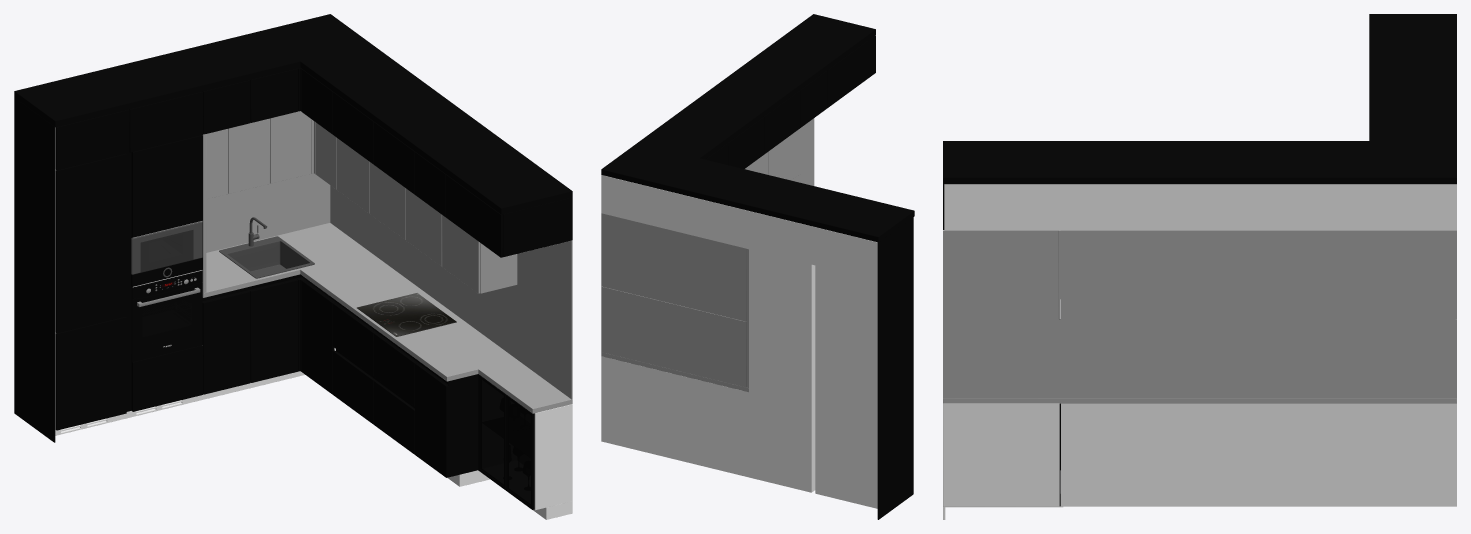
The picture shows the model from 3 angles, left to right: view 1: azimuth 30°, elevation 25°; view 2: azimuth 150°, elevation 25°; view 3: azimuth 270°, elevation 25°; orthographic projection. The views are drawn at different scales.
Parts seen in each view (by area): view 1: Fasad_Fasad_0, falshpanel1_Dub_galifaks_top_left_0, Fasad12_Fasad_0, Fasad13_Fasad_0, top_Dub_galifaks_top_left_0, Fasad15_Fasad_0, falshpanel_Dub_galifaks_top_left_0, Fasad14_Fasad_0, Fasad17_Fasad_0, glass_bar_glass_bar_0, Fasad18_Fasad_0, top_Dub_galifaks_top_0 (+40 smaller); view 2: Fasad_Fasad_0, Fasad12_Fasad_0, falshpanel_Dub_galifaks_top_left_0, korp13_Korpus_0 (×2), Korpus_40_1017_Korpus_0, korp10_Korpus_0, korp16_Dub_galifaks_top_left_0, korp11_Korpus_0, korp7_Korpus_0, Korpus_40_0_Korpus_0, korp14_Korpus_0, korp12_Korpus_0 (+13 smaller); view 3: falshpanel1_Dub_galifaks_top_left_0, Fasad_Fasad_0, bar_glass_Korpus_0, Korpus_40_1017_Korpus_0, Korpus_60_001_Korpus_0, Korpus_60_0_Korpus_0, Korpus_40_1018_Dub_galifaks_top_left_0, korp19_Dub_galifaks_top_left_0, korp18_Dub_galifaks_top_left_0, Korpus_45_0_Korpus_0, Korpus_45_001_Korpus_0, korp20_Dub_galifaks_top_left_0 (+8 smaller).
Boxes of the visible parts, x1,y1,x2,y2 form: Fasad_Fasad_0: (14, 14, 572, 214); falshpanel1_Dub_galifaks_top_left_0: (330, 185, 572, 399); Fasad12_Fasad_0: (14, 97, 55, 442); Fasad13_Fasad_0: (55, 153, 126, 333); top_Dub_galifaks_top_left_0: (300, 252, 572, 413); Fasad15_Fasad_0: (55, 316, 126, 430); falshpanel_Dub_galifaks_top_left_0: (206, 173, 330, 252); Fasad14_Fasad_0: (132, 135, 202, 237); Fasad17_Fasad_0: (202, 291, 250, 394); glass_bar_glass_bar_0: (479, 378, 530, 505); Fasad18_Fasad_0: (250, 279, 297, 382); top_Dub_galifaks_top_0: (202, 223, 370, 297); Fasad_Fasad_0: (601, 14, 914, 242); Fasad12_Fasad_0: (877, 217, 913, 519); falshpanel_Dub_galifaks_top_left_0: (601, 286, 746, 387); korp13_Korpus_0 (×2): (749, 249, 815, 448); Korpus_40_1017_Korpus_0: (601, 356, 707, 466); korp10_Korpus_0: (815, 265, 877, 423); korp16_Dub_galifaks_top_left_0: (637, 222, 710, 312); korp11_Korpus_0: (815, 408, 877, 508); korp7_Korpus_0: (601, 175, 707, 238); Korpus_40_0_Korpus_0: (707, 382, 748, 477); korp14_Korpus_0: (749, 324, 815, 383); korp12_Korpus_0: (749, 434, 815, 492); falshpanel1_Dub_galifaks_top_left_0: (943, 230, 1455, 398); Fasad_Fasad_0: (943, 14, 1456, 184); bar_glass_Korpus_0: (943, 403, 1059, 506); Korpus_40_1017_Korpus_0: (1367, 403, 1456, 506); Korpus_60_001_Korpus_0: (1126, 403, 1213, 506); Korpus_60_0_Korpus_0: (1214, 403, 1301, 506); Korpus_40_1018_Dub_galifaks_top_left_0: (1360, 230, 1456, 319); korp19_Dub_galifaks_top_left_0: (1136, 230, 1213, 319); korp18_Dub_galifaks_top_left_0: (1214, 230, 1291, 319); Korpus_45_0_Korpus_0: (1301, 403, 1366, 506); Korpus_45_001_Korpus_0: (1061, 403, 1126, 506); korp20_Dub_galifaks_top_left_0: (1061, 230, 1136, 319).
Bounding box in the file's own units: 2.66 × 2.59 × 3.53.
29 materials, 2 textured.
